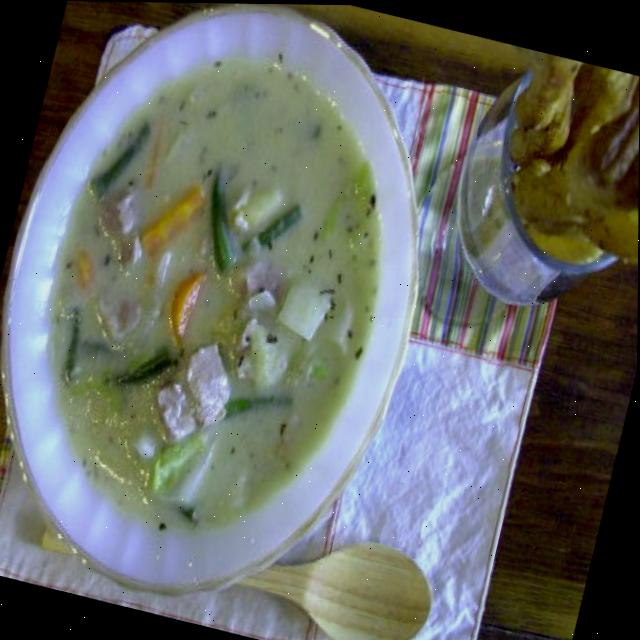汤锅炖物: (0, 0, 482, 637)
